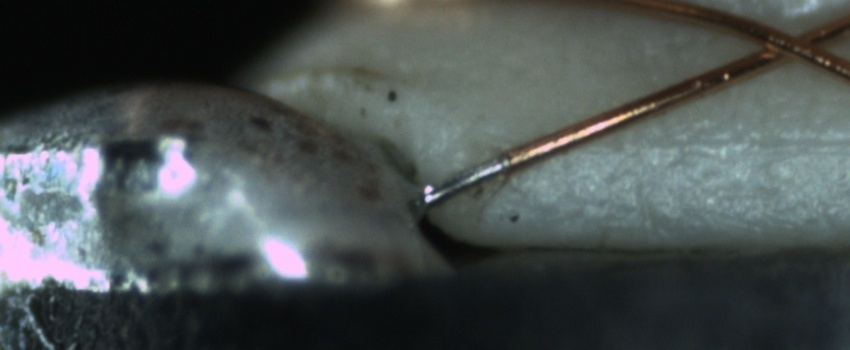CL: (741, 15, 839, 70)
DL: (582, 115, 849, 172)
TS: (422, 153, 511, 210)
